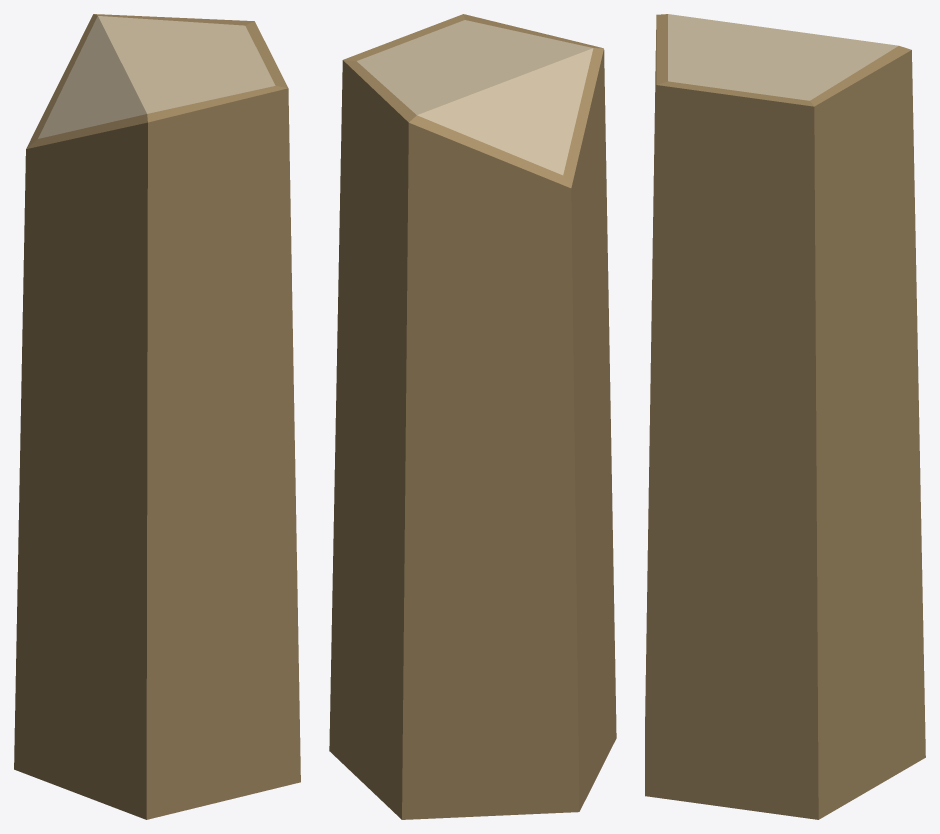
The model's file is Thuja_Stump_01.fbx.
3 renders of one model, left to right at view 1: azimuth 30°, elevation 25°; view 2: azimuth 150°, elevation 25°; view 3: azimuth 270°, elevation 25°, orthographic. The views are drawn at different scales.
Visible parts, largest first — view 1: Thuja_Stump_01; view 2: Thuja_Stump_01; view 3: Thuja_Stump_01.
Boxes of the visible parts, x1,y1,x2,y2 form: Thuja_Stump_01: (14, 14, 300, 819); Thuja_Stump_01: (329, 14, 616, 819); Thuja_Stump_01: (645, 14, 925, 819).
Size of the model in its own units: 21.17 by 56.28 by 20.14.
